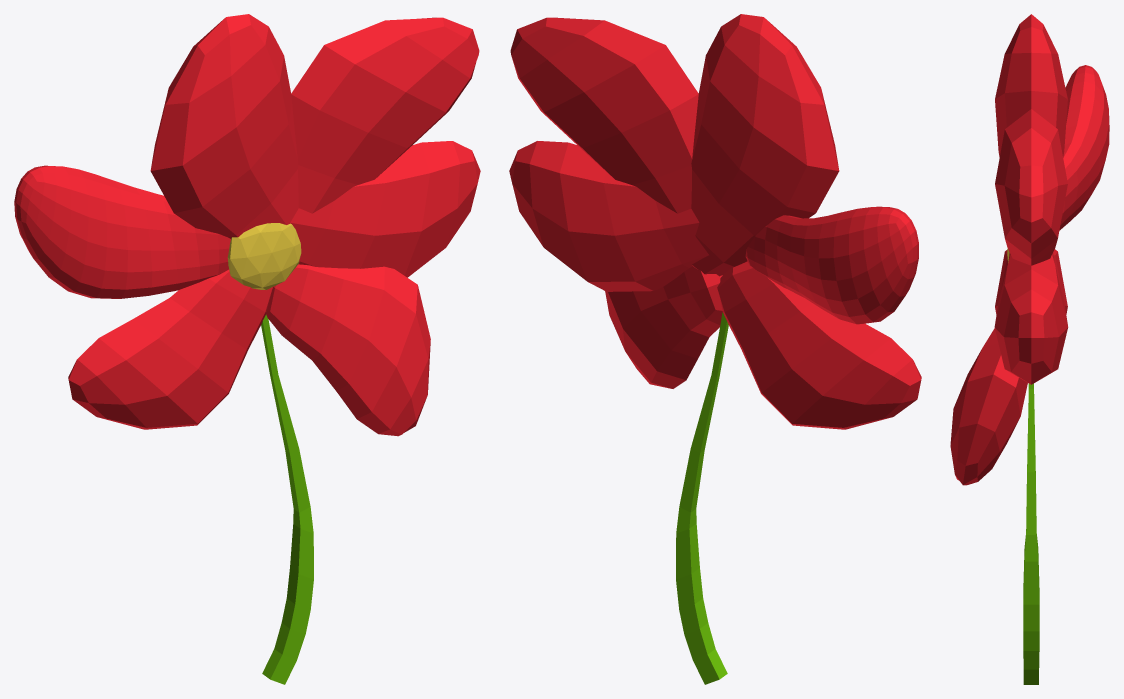
The model's file is Flor.fbx.
The picture shows the model from 3 angles, left to right: view 1: azimuth 30°, elevation 25°; view 2: azimuth 150°, elevation 25°; view 3: azimuth 270°, elevation 25°; orthographic projection. The views are drawn at different scales.
Visible parts, largest first — view 1: Flor; view 2: Flor; view 3: Flor.
Part boxes in pixels (bbox=[...]): Flor: bbox=[14, 14, 480, 684]; Flor: bbox=[509, 14, 921, 684]; Flor: bbox=[950, 14, 1109, 684].
Size of the model in its own units: 379 by 563 by 126.
